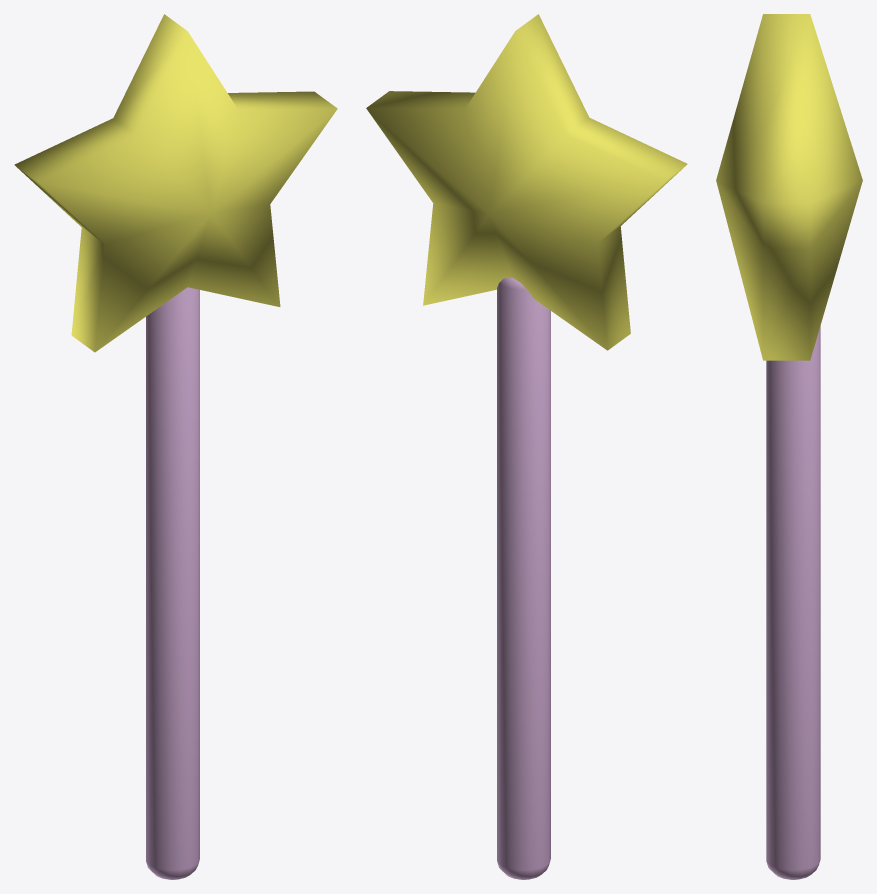
The model's file is WizardGhost_Wand.fbx.
3 views of the same model, side by side, from view 1: azimuth 30°, elevation 25°; view 2: azimuth 150°, elevation 25°; view 3: azimuth 270°, elevation 25° (orthographic).
Visible parts, largest first — view 1: WandStick; view 2: WandStick; view 3: WandStick.
Boxes of the visible parts, box(x1,y1,x2,y2) form: WandStick: box(14, 14, 337, 879); WandStick: box(366, 14, 687, 879); WandStick: box(716, 14, 862, 879).
Bounding box in the file's own units: 38.04 × 104 × 16.
